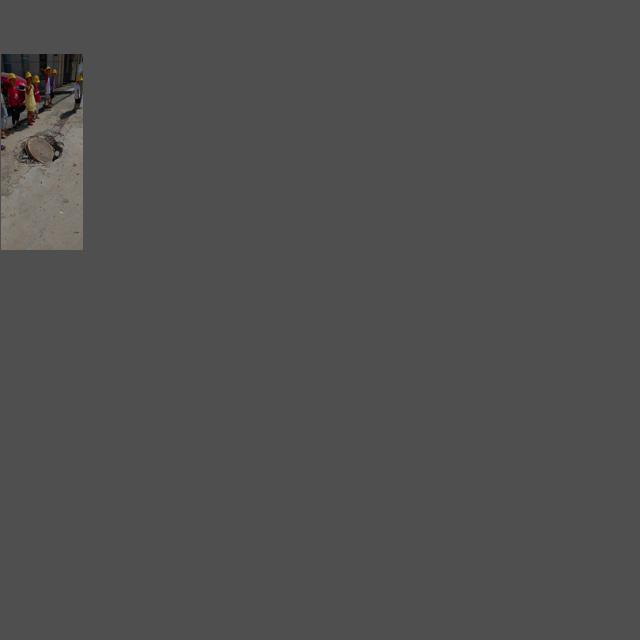circle: (12, 126, 71, 174)
